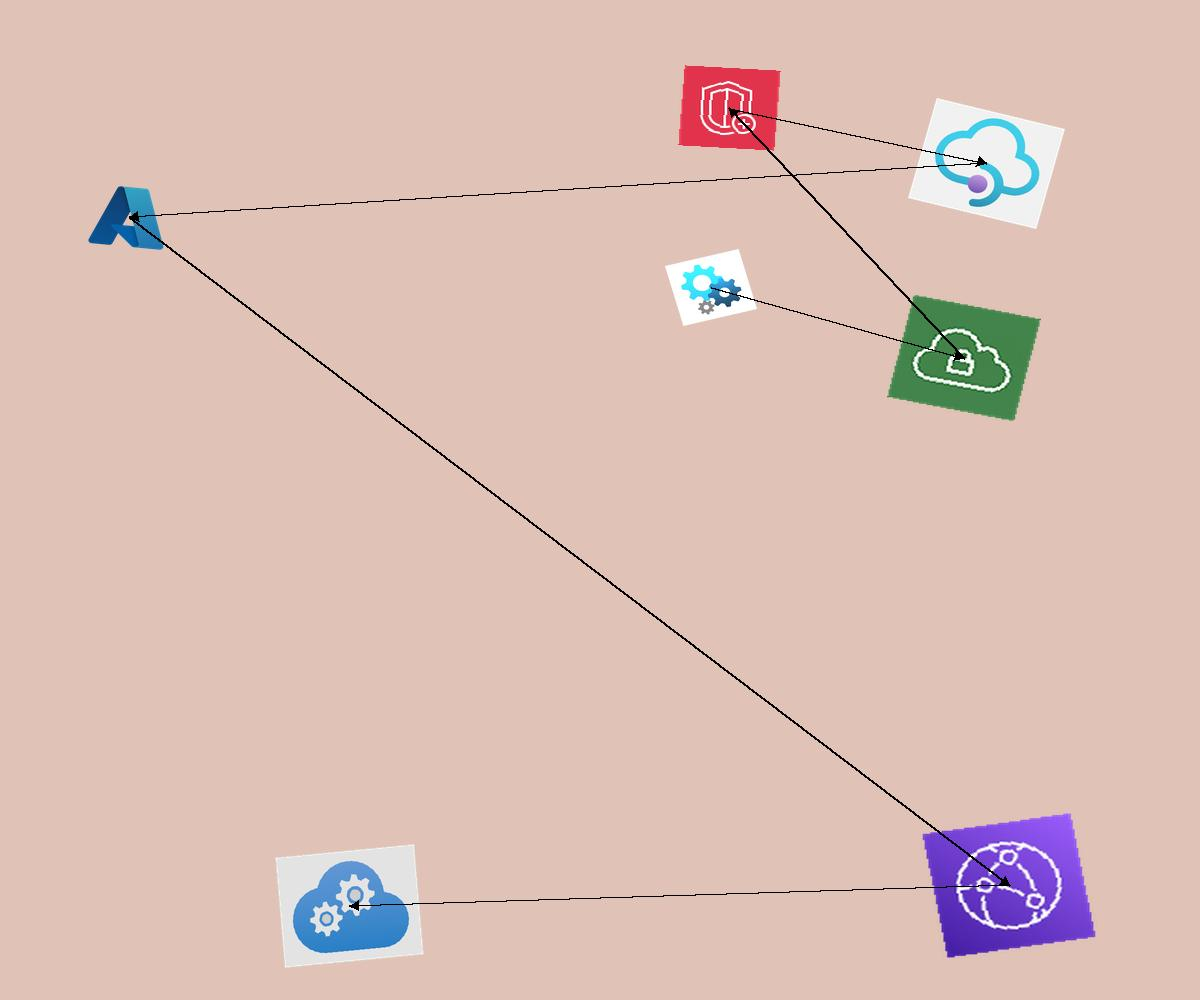AWS-CloudFront: (921, 812, 1097, 959)
AWS-Private_vpc: (887, 294, 1041, 422)
AWS-Shield: (678, 65, 781, 151)
Azure_api: (665, 249, 757, 326)
Azure_api_gateway: (908, 98, 1065, 229)
Azure_cloud_services: (275, 844, 424, 968)
Azure_services: (84, 179, 175, 255)
